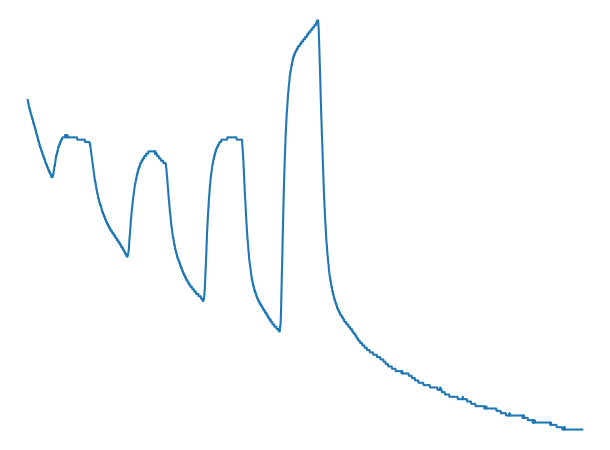decrease: (304, 14, 328, 50), (153, 144, 174, 178), (225, 128, 249, 155), (74, 130, 97, 152)
increase: (268, 304, 289, 335), (194, 276, 211, 308), (119, 232, 136, 262), (45, 154, 62, 181)
